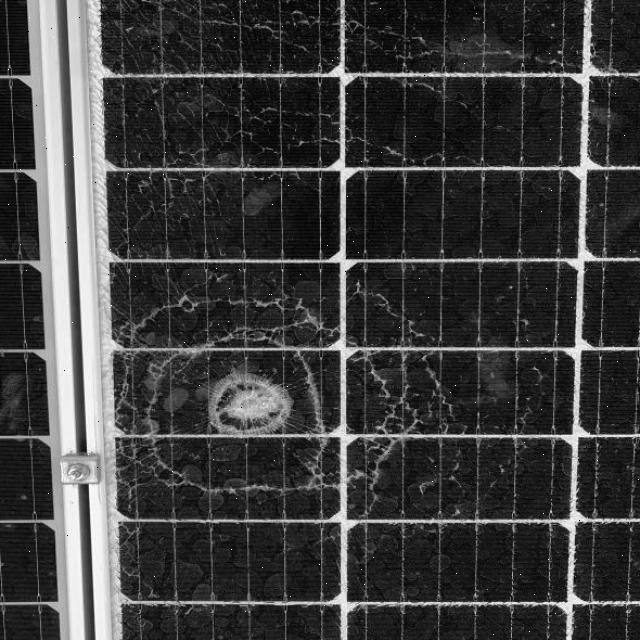Anomaly Solar Panel: (100, 0, 640, 640)
Structural Damage: (126, 183, 504, 542), (143, 326, 338, 497), (165, 3, 426, 77), (248, 100, 479, 175), (206, 373, 293, 439), (396, 43, 573, 72)
